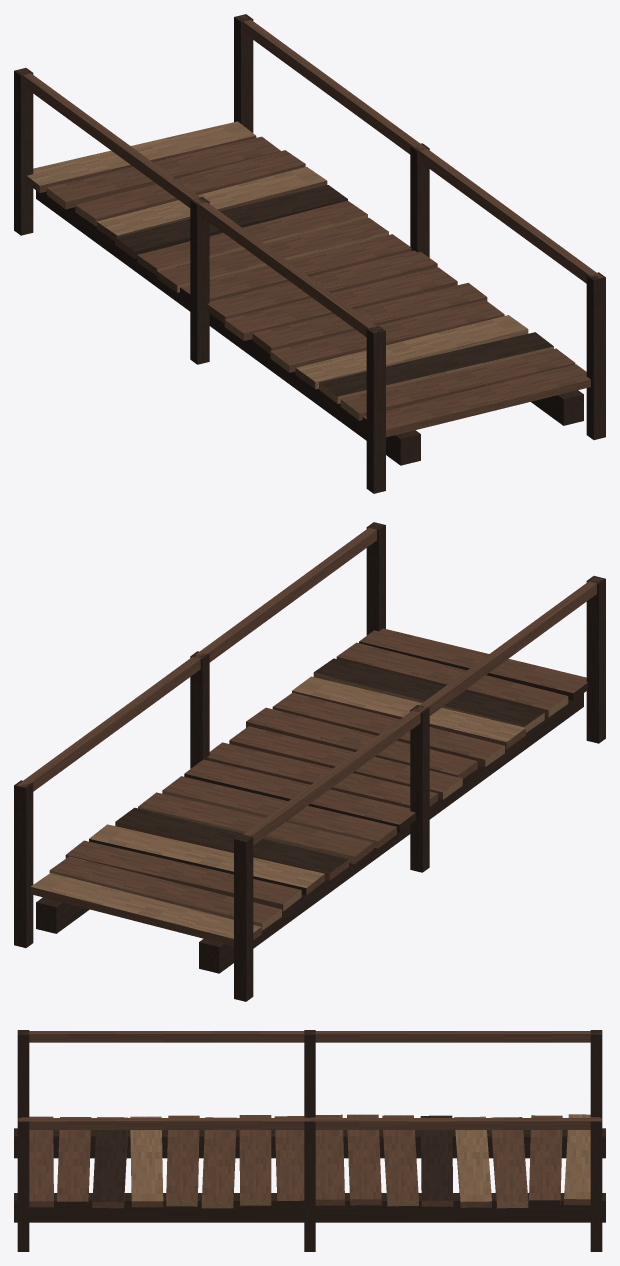
File: bridge_wood.glb
3 renders of one model, top to bottom at view 1: azimuth 30°, elevation 25°; view 2: azimuth 150°, elevation 25°; view 3: azimuth 270°, elevation 25°, orthographic. The views are drawn at different scales.
Parts seen in each view (by area): view 1: bridge_wood; view 2: bridge_wood; view 3: bridge_wood.
Boxes of the visible parts, left/top/right/bottom form: bridge_wood: left=14, top=14, right=605, bottom=493; bridge_wood: left=14, top=522, right=605, bottom=1001; bridge_wood: left=14, top=1030, right=605, bottom=1251.
Bounding box in the file's own units: 2.28 × 1.5 × 6.2.
Materials: 1 (1 with a texture image).
